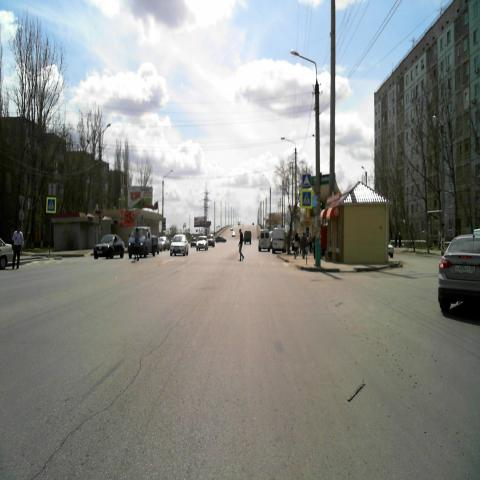5_20: (301, 173, 310, 187)
